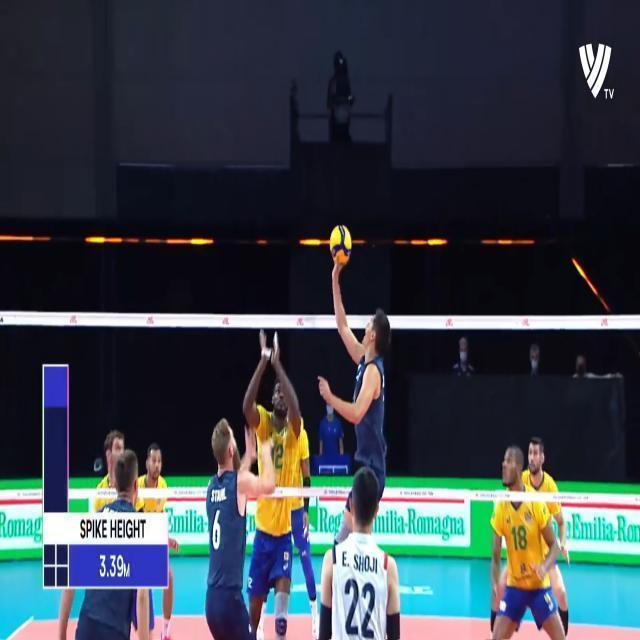volleyball: (329, 225, 352, 264)
